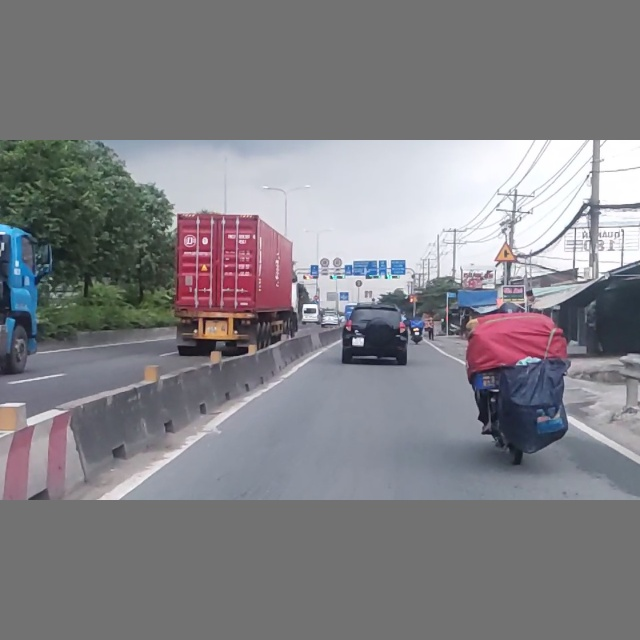W.207: (495, 242, 518, 263)
